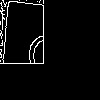G: (25, 25, 65, 76)
